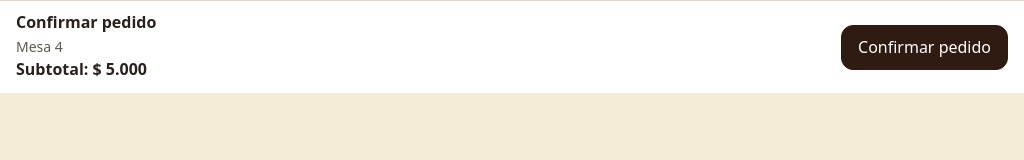
Test: ConfirmarPedido › rechaza una respuesta incompleta y conserva el carrito
Click the button "Confirmar pedido" at [924, 47], box [841, 24, 1008, 70]
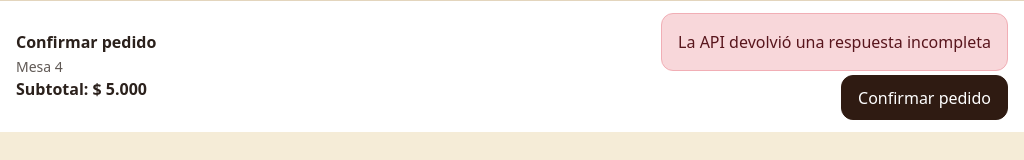
Check: the message shows "respuesta incompleta", box [678, 31, 991, 53]
